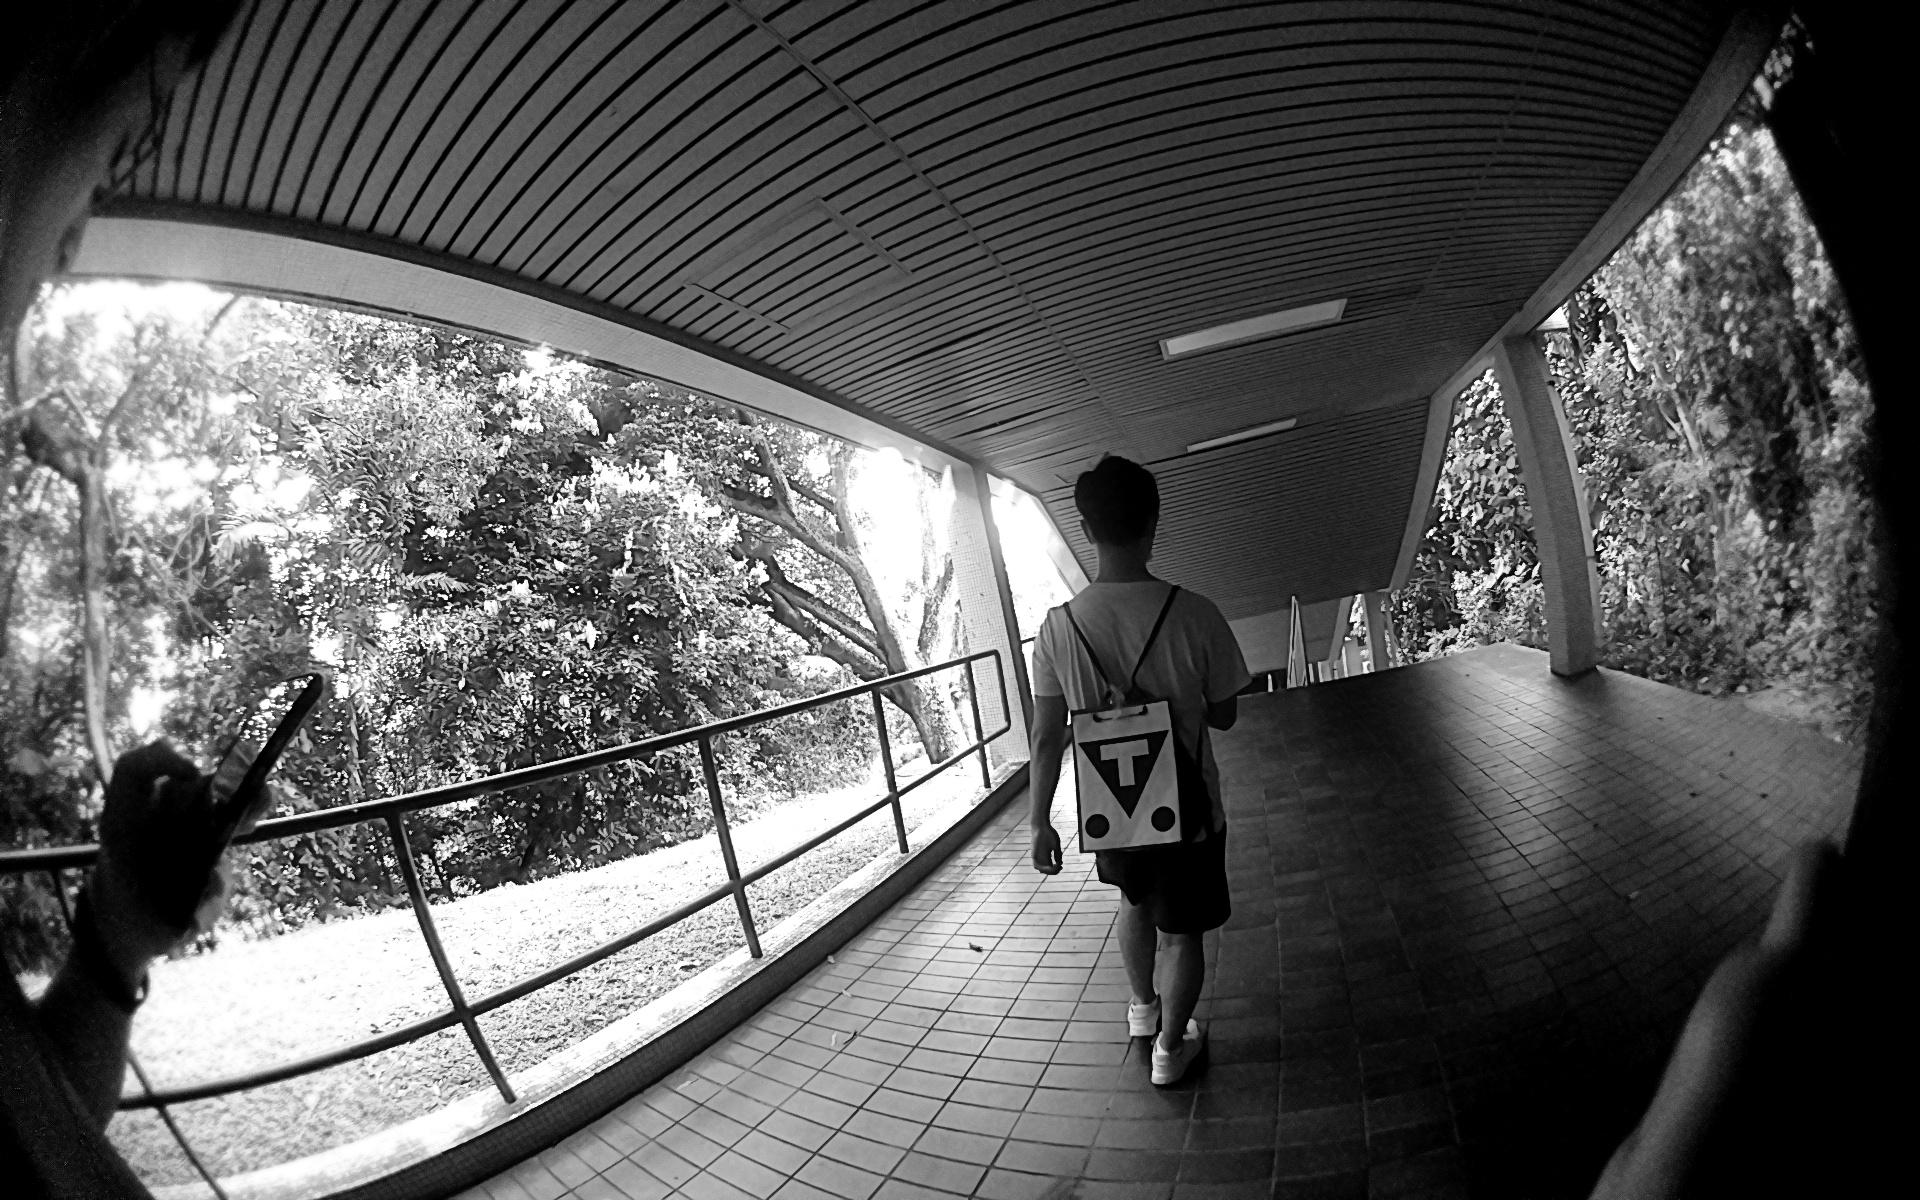fly_lower: (1074, 719, 1182, 845)
